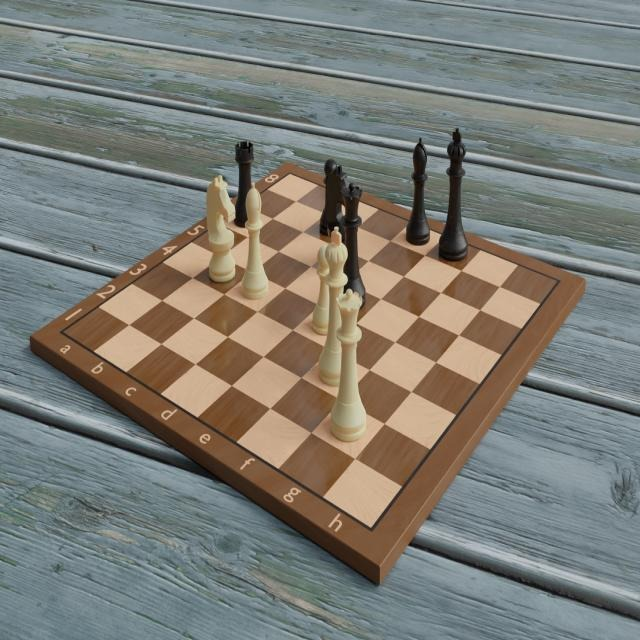black-bishop: (404, 136, 433, 248)
black-king: (437, 126, 470, 261)
black-knight: (323, 162, 353, 258)
black-pawn: (317, 156, 342, 236)
black-queen: (336, 180, 368, 311)
black-rook: (233, 136, 258, 227)
white-bishop: (237, 181, 271, 302)
white-king: (318, 224, 349, 389)
white-knight: (204, 175, 238, 286)
white-pawn: (311, 242, 337, 337)
white-queen: (329, 286, 369, 445)
